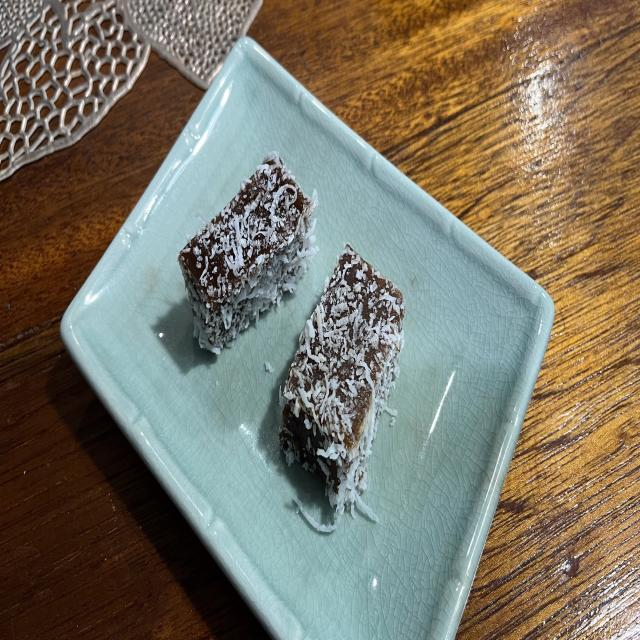kaswi: (280, 244, 405, 533), (179, 151, 318, 353)
